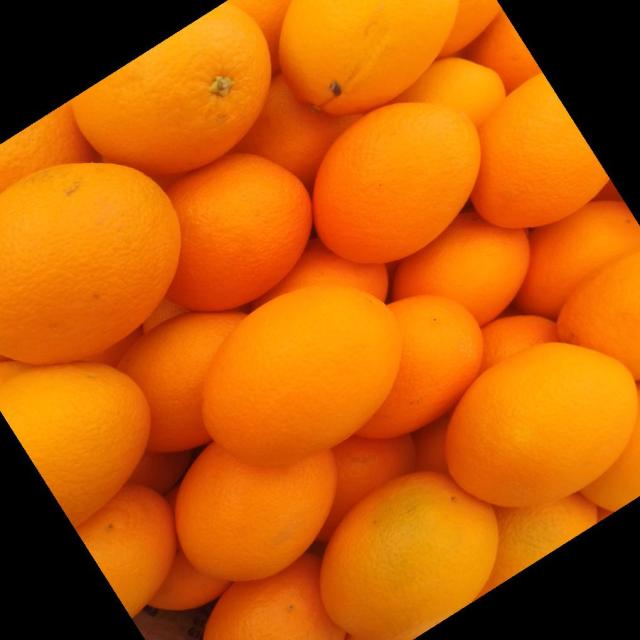fresh orange: (2, 1, 637, 636), (202, 285, 410, 465), (2, 163, 180, 361), (74, 7, 270, 174), (308, 479, 511, 636), (451, 347, 632, 508), (313, 102, 479, 261), (0, 364, 148, 528), (162, 155, 308, 310), (178, 442, 334, 580), (471, 72, 606, 226), (281, 1, 457, 116), (118, 313, 244, 453), (395, 216, 528, 328), (517, 202, 637, 318), (242, 74, 365, 187), (74, 482, 172, 620), (205, 560, 346, 637), (259, 244, 388, 307)
